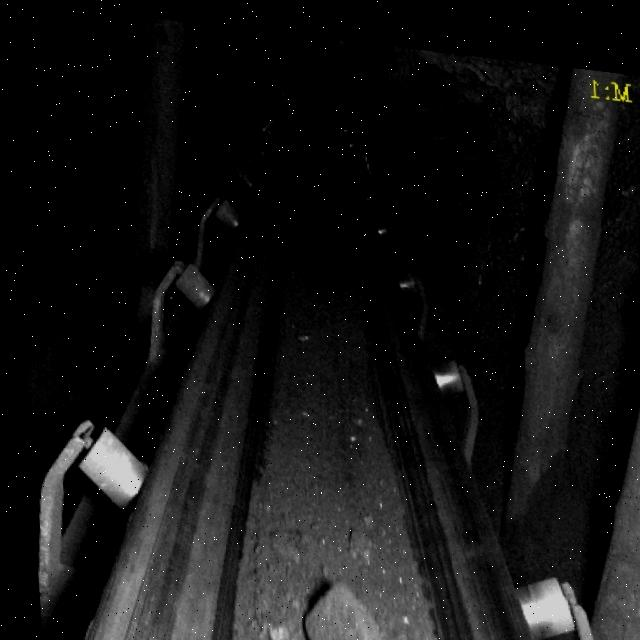large_sized_coal: (277, 571, 403, 640)
